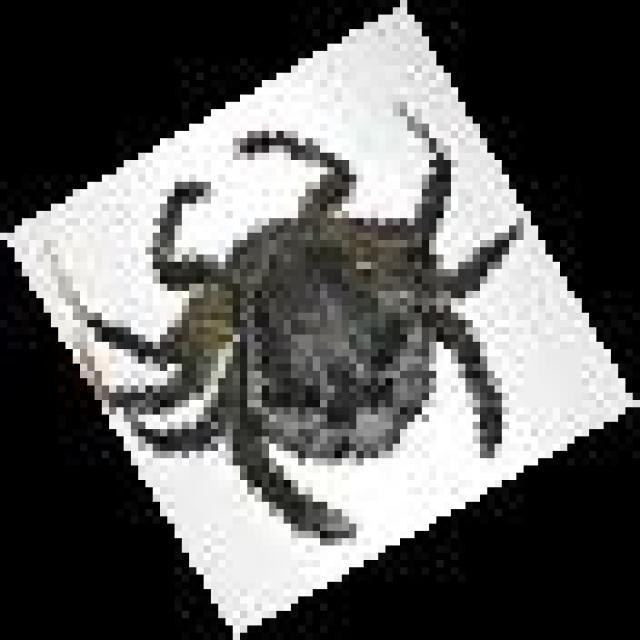European Green crab: (80, 109, 516, 531)
